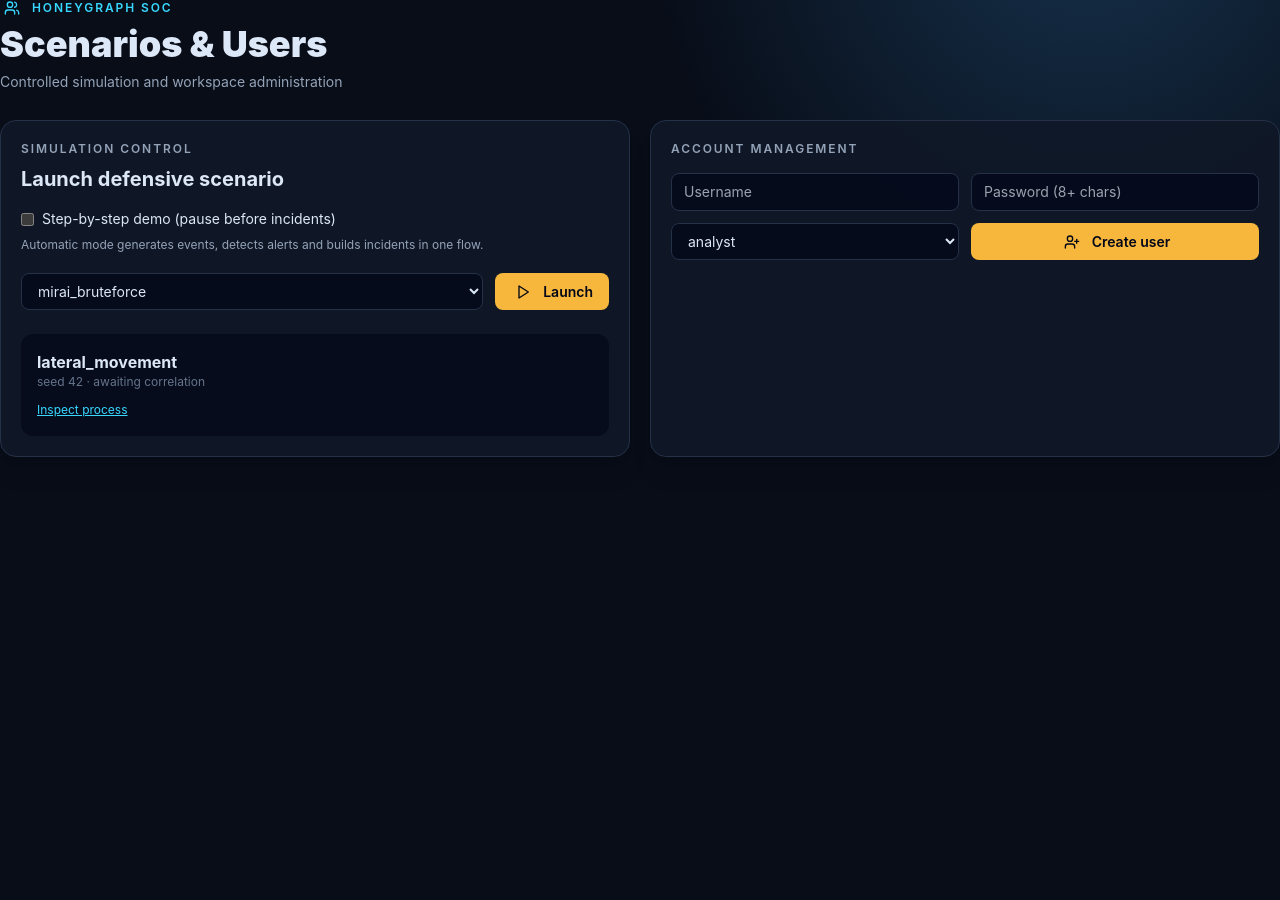
Scenario: guided scenario presentation › shows raw events and alerts while the incident count remains zero
Click the button "Inspect process".
click(82, 410)  # box [37,402,128,418]
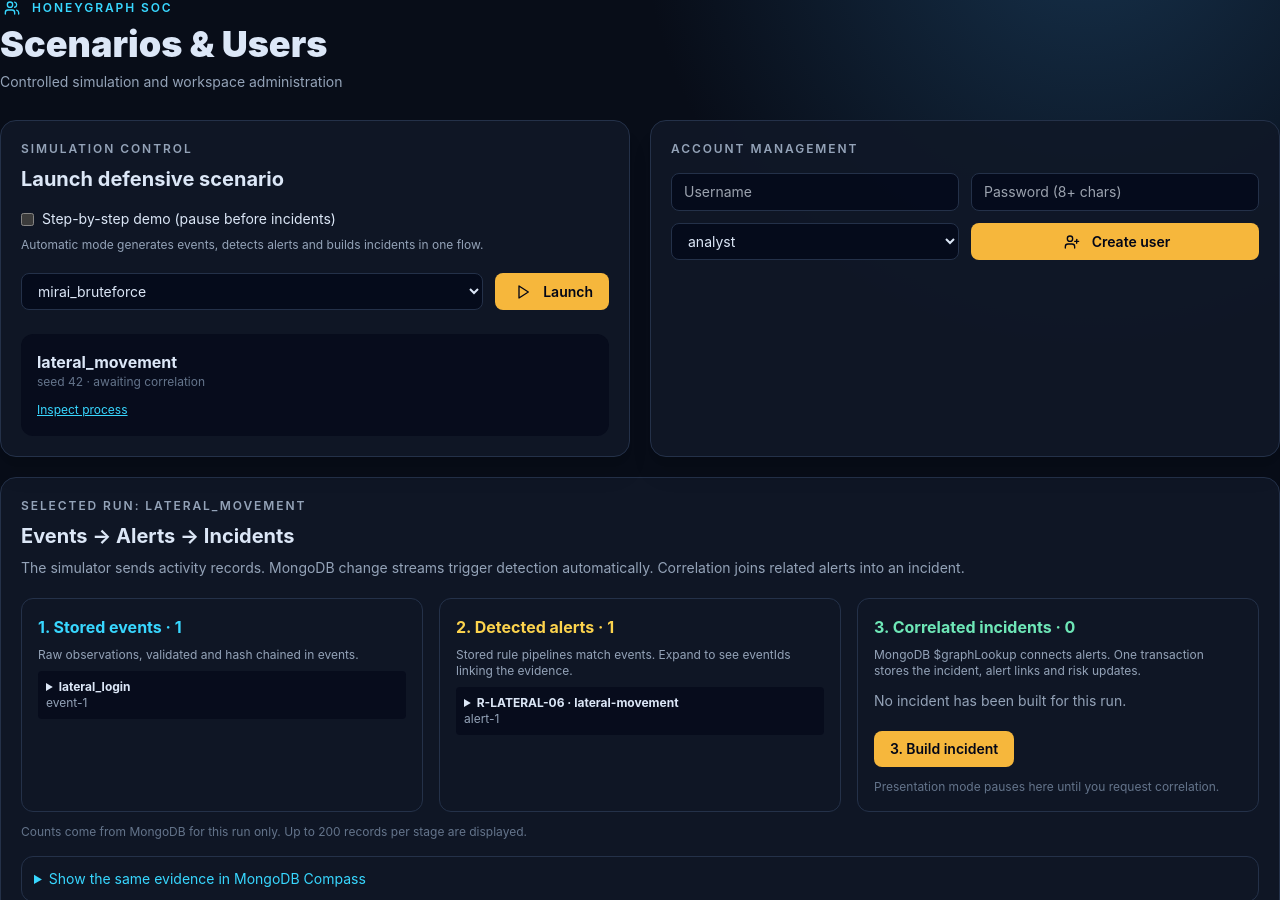
Check: the text "event-1" is shown, box [46,695,88,710]
Check: the text "alert-1" is shown, box [464,711,499,726]
Check: the text "No incident has been built for this run." is shown, box [874,692,1126,709]
